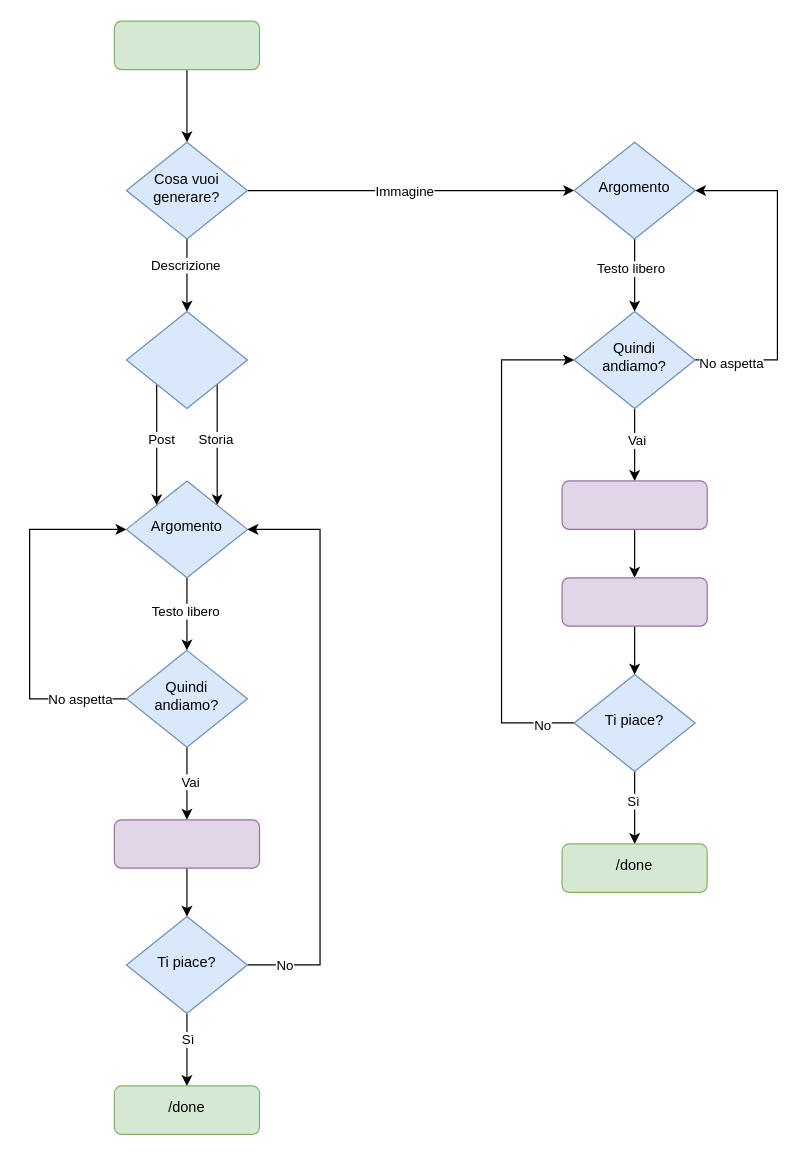
Some shapes in this 808 by 1156 pixel diagram are drawn without their labels. Each missing label, with the centre of its shape:
"/start" goes at (x=186, y=45).
"Genera descrizione" goes at (x=186, y=843).
"Genera immagine" goes at (x=634, y=601).
"Genera prompt" goes at (x=634, y=504).
"Per quale contenuto?" goes at (x=186, y=359).
